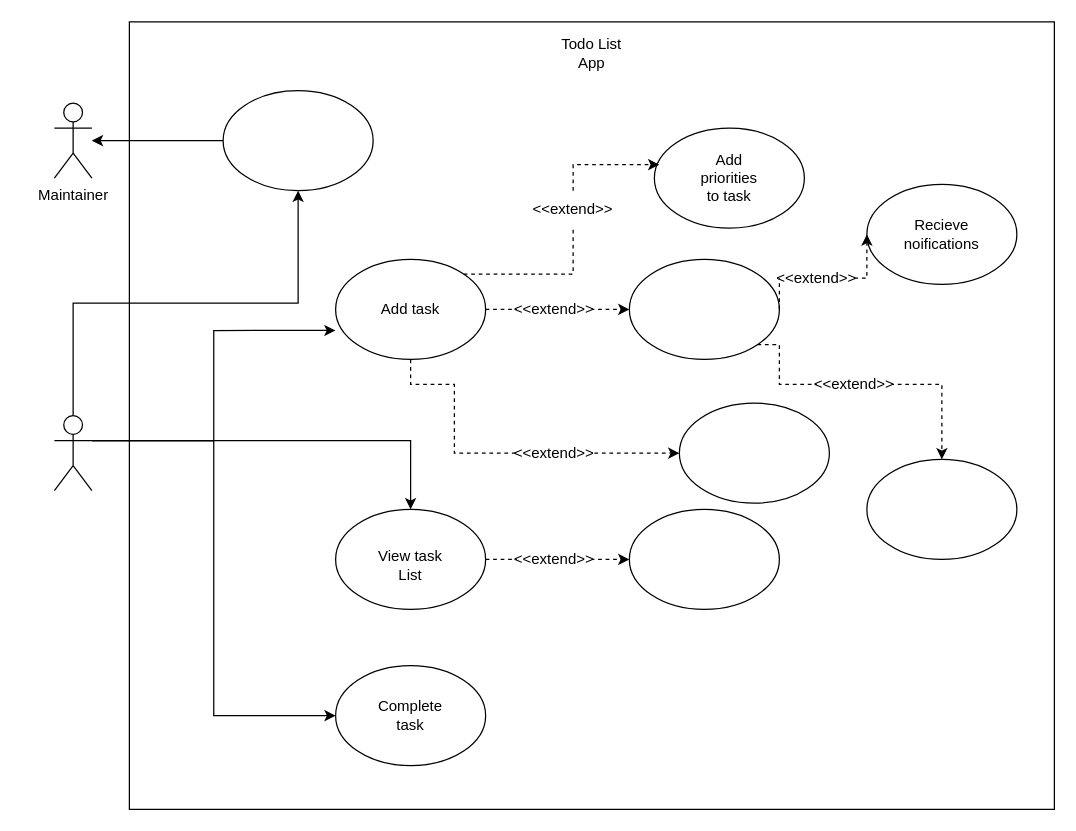
This 1076x831 diagram has some shape labels left out. Each missing label, with the centre of its shape:
Add due date to task: the point at 703,308
Add recurring task: the point at 941,508
Add tags to task: the point at 753,452
College student: the point at 72,452
Report a bug: the point at 297,140
Sort task list: the point at 703,558
